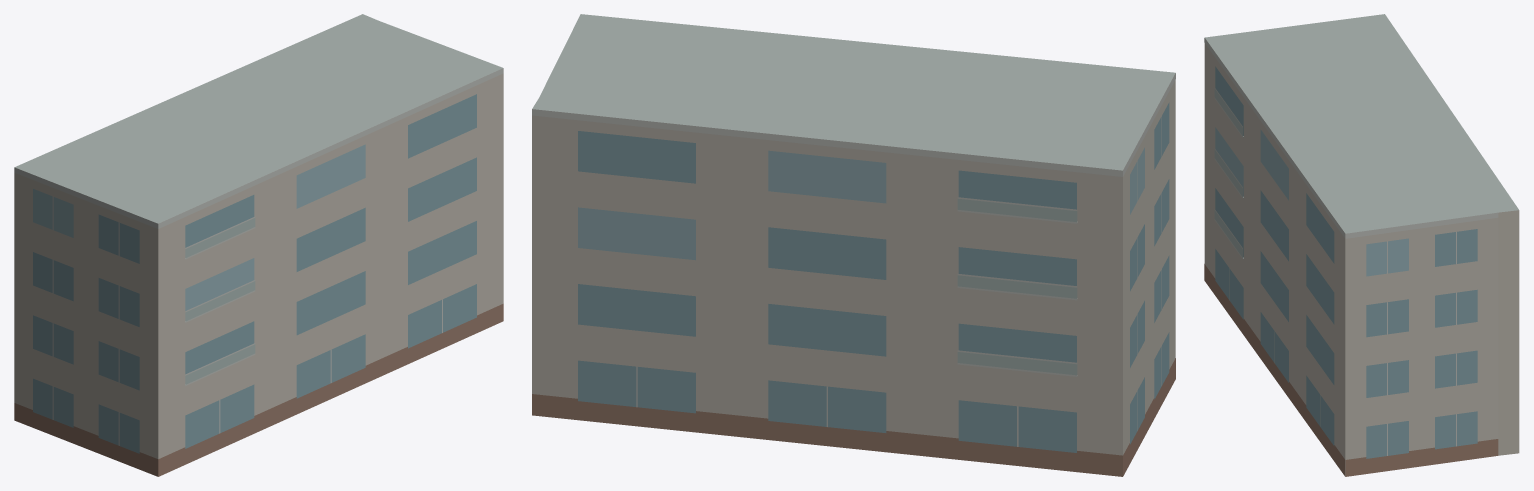
The model's file is survey-upis-32927178.glb.
3 views of the same model, side by side, from view 1: azimuth 30°, elevation 25°; view 2: azimuth 150°, elevation 25°; view 3: azimuth 270°, elevation 25° (orthographic). The views are drawn at different scales.
Visible parts, largest first — view 1: survey-upis-32927178.tmp; view 2: survey-upis-32927178.tmp; view 3: survey-upis-32927178.tmp.
Boxes of the visible parts, <box> form: survey-upis-32927178.tmp: <box>14,14,503,476</box>; survey-upis-32927178.tmp: <box>532,14,1175,476</box>; survey-upis-32927178.tmp: <box>1204,14,1519,476</box>.
Bounding box in the file's own units: 22.68 × 11.7 × 13.74.
